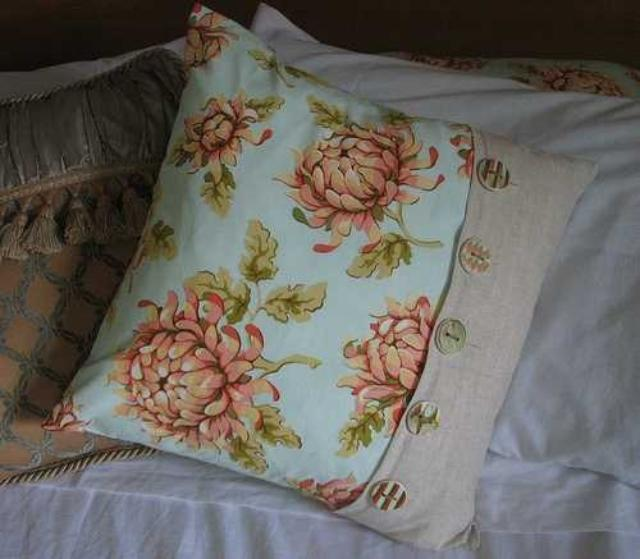pillow: (39, 1, 598, 552)
